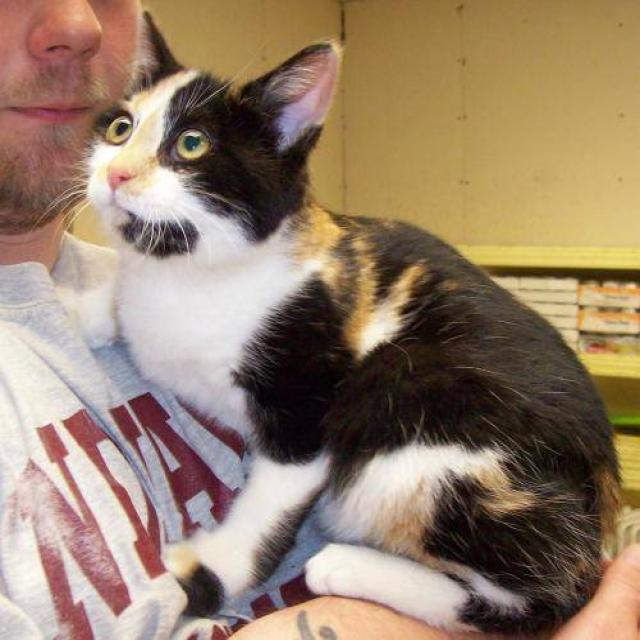Cat: (97, 23, 346, 250)
